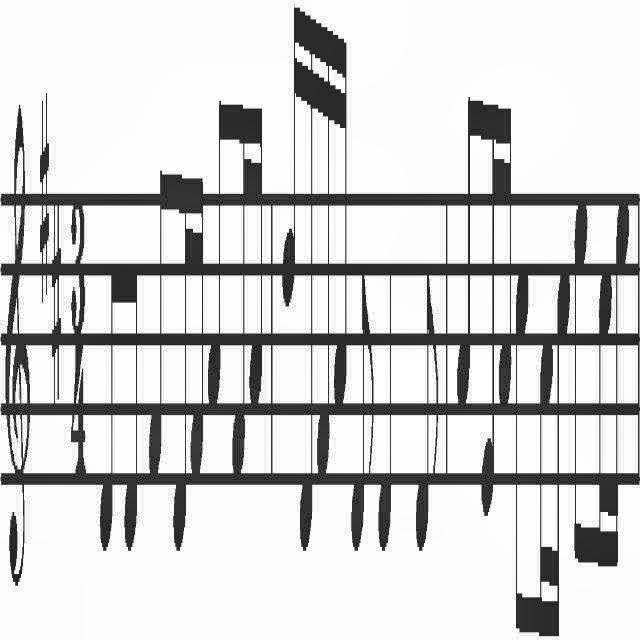Bass-clef: (3, 71, 33, 605)
Diez: (34, 98, 52, 346), (50, 168, 66, 414)
Eighth-note: (452, 26, 476, 450), (348, 220, 374, 592), (90, 246, 118, 588), (414, 240, 442, 576), (572, 175, 592, 608), (147, 142, 167, 514), (206, 77, 226, 439), (120, 226, 140, 562), (514, 258, 530, 640)
Quarter-note: (378, 240, 398, 572)
Sixteenth-note: (479, 65, 497, 531), (230, 84, 250, 498), (275, 1, 299, 343), (332, 0, 350, 448), (300, 0, 314, 548), (316, 7, 332, 486), (172, 150, 188, 582), (533, 302, 553, 640), (615, 168, 629, 614), (498, 65, 514, 443), (596, 233, 612, 611), (190, 142, 206, 518), (554, 258, 570, 634), (250, 91, 266, 437)
